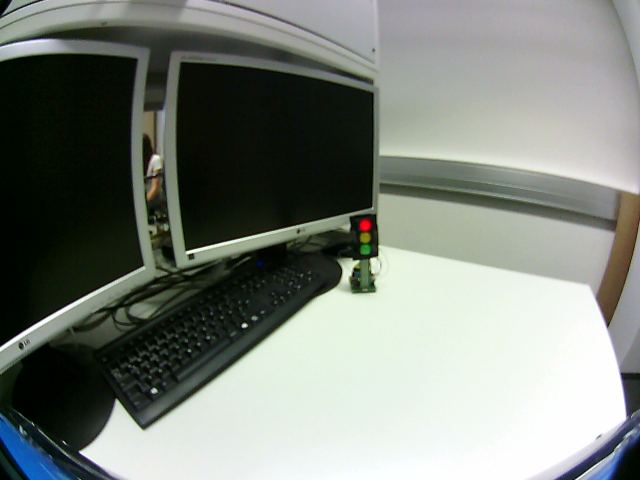red trafficlight: (356, 215, 373, 258)
